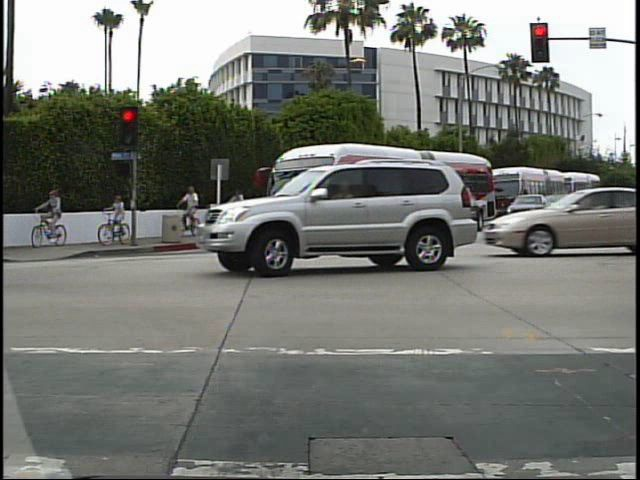person: (103, 194, 131, 249)
